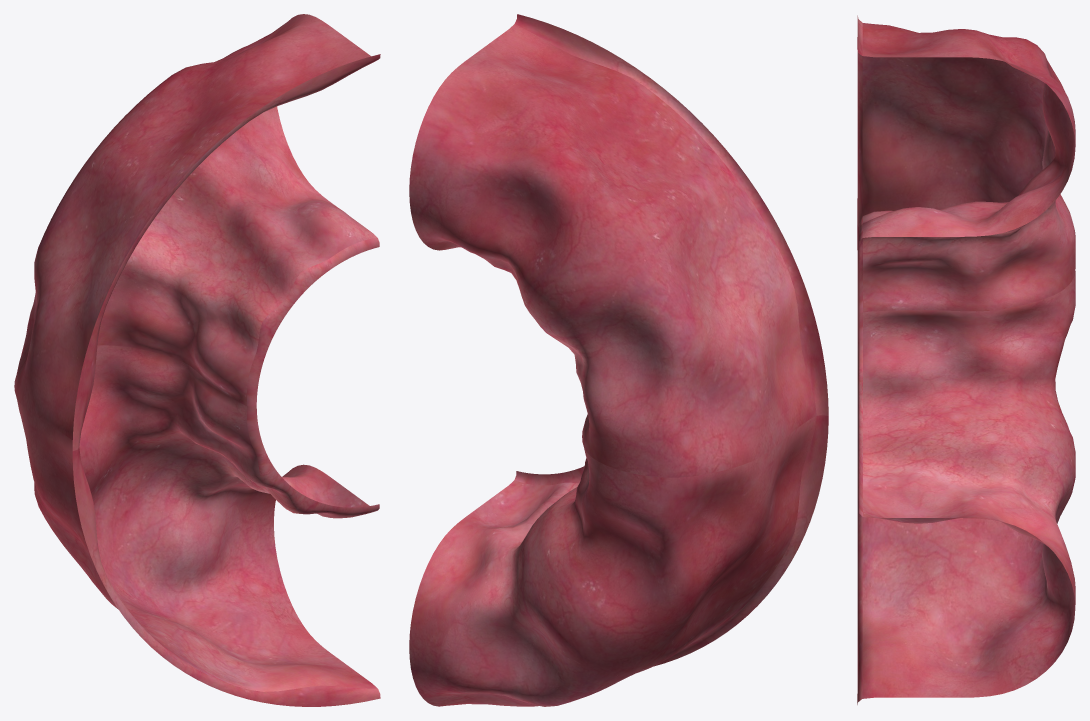
Rendered from U bend left test.FBX.
3 views of the same model, side by side, from view 1: azimuth 30°, elevation 25°; view 2: azimuth 150°, elevation 25°; view 3: azimuth 270°, elevation 25° (orthographic). The views are drawn at different scales.
Parts seen in each view (by area): view 1: ThroatEnvironment020; view 2: ThroatEnvironment020; view 3: ThroatEnvironment020.
Boxes of the visible parts, x1,y1,x2,y2 form: ThroatEnvironment020: (14, 14, 380, 706); ThroatEnvironment020: (409, 14, 828, 706); ThroatEnvironment020: (857, 15, 1075, 704).
Size of the model in its own units: 164 by 328 by 98.61.
